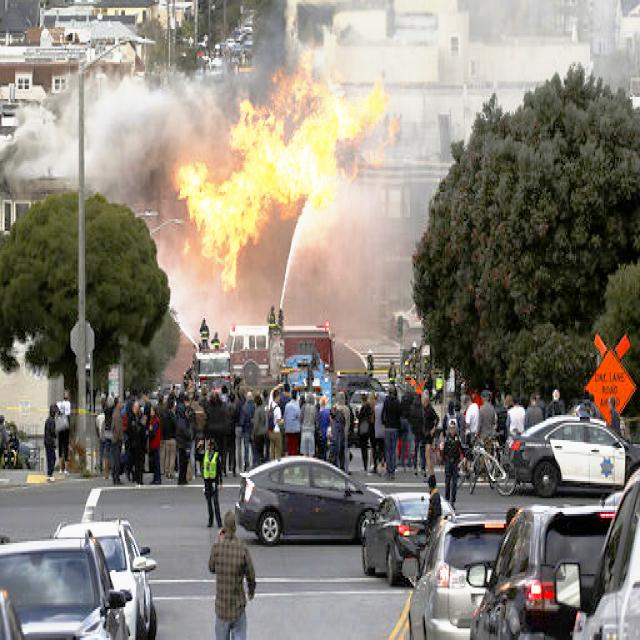api: (173, 49, 405, 294)
asap: (1, 53, 237, 217)
